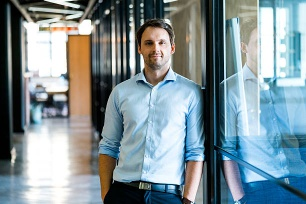male: (133, 21, 178, 72)
